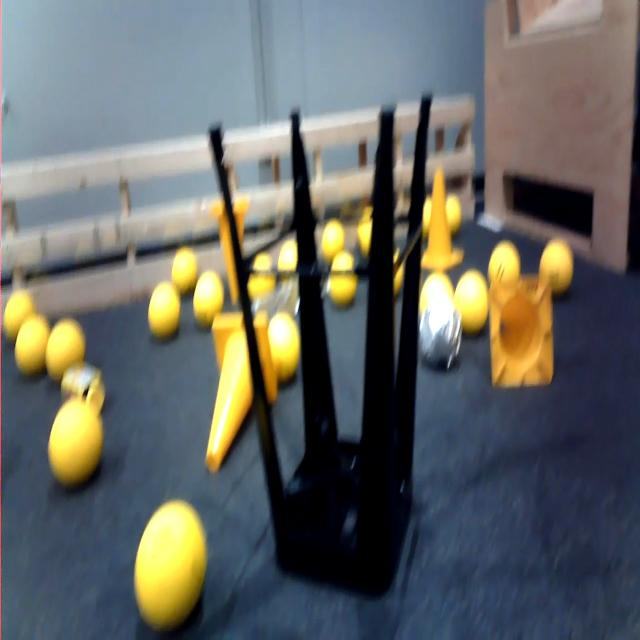fuel: (134, 495, 214, 635), (46, 398, 108, 490), (265, 309, 306, 389), (452, 267, 492, 347), (45, 313, 89, 383), (143, 277, 184, 339), (537, 236, 581, 292), (190, 264, 225, 331), (15, 311, 49, 377), (326, 248, 359, 309), (484, 242, 526, 284), (418, 269, 452, 320), (354, 200, 386, 253), (245, 249, 278, 300), (2, 289, 36, 337), (438, 186, 464, 244), (173, 242, 200, 296), (318, 214, 347, 263), (277, 233, 305, 276), (389, 249, 409, 302), (416, 186, 434, 234)
